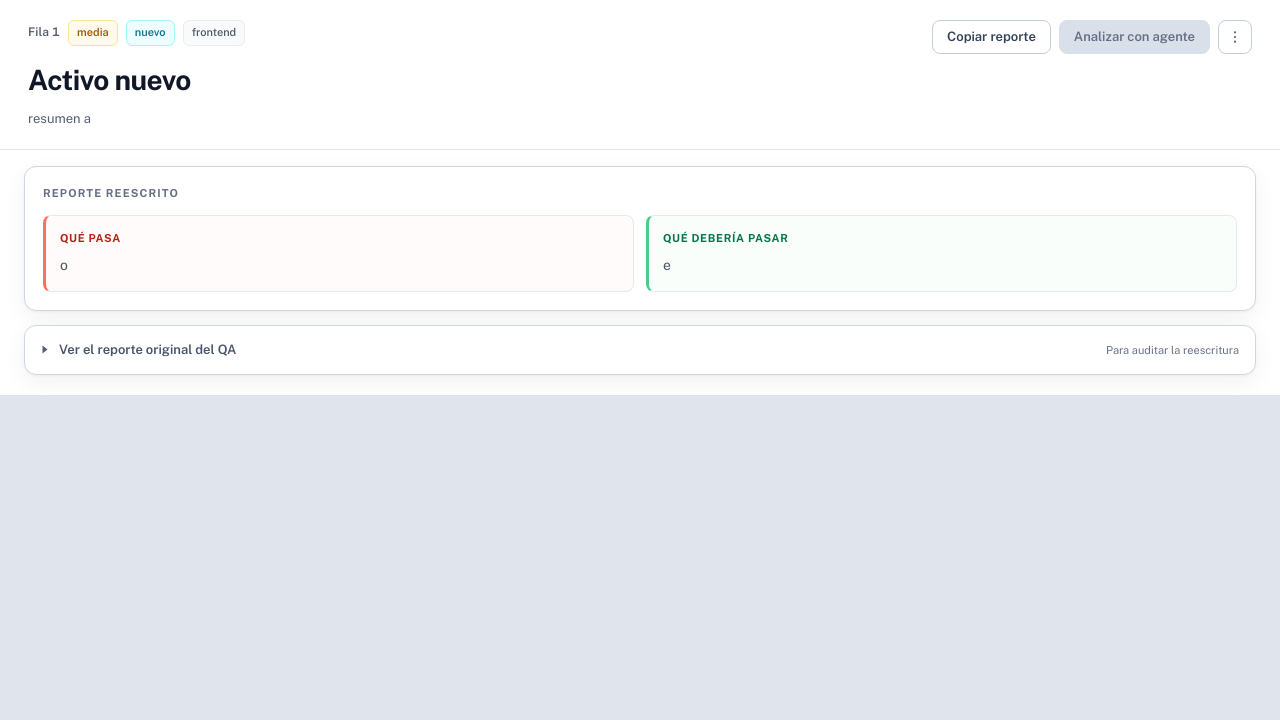
Test: BugDetail — borrar bug › cancelar no borra y cierra el modal
Click the button named "más acciones del bug" at (1235, 37), box [1218, 20, 1252, 54]
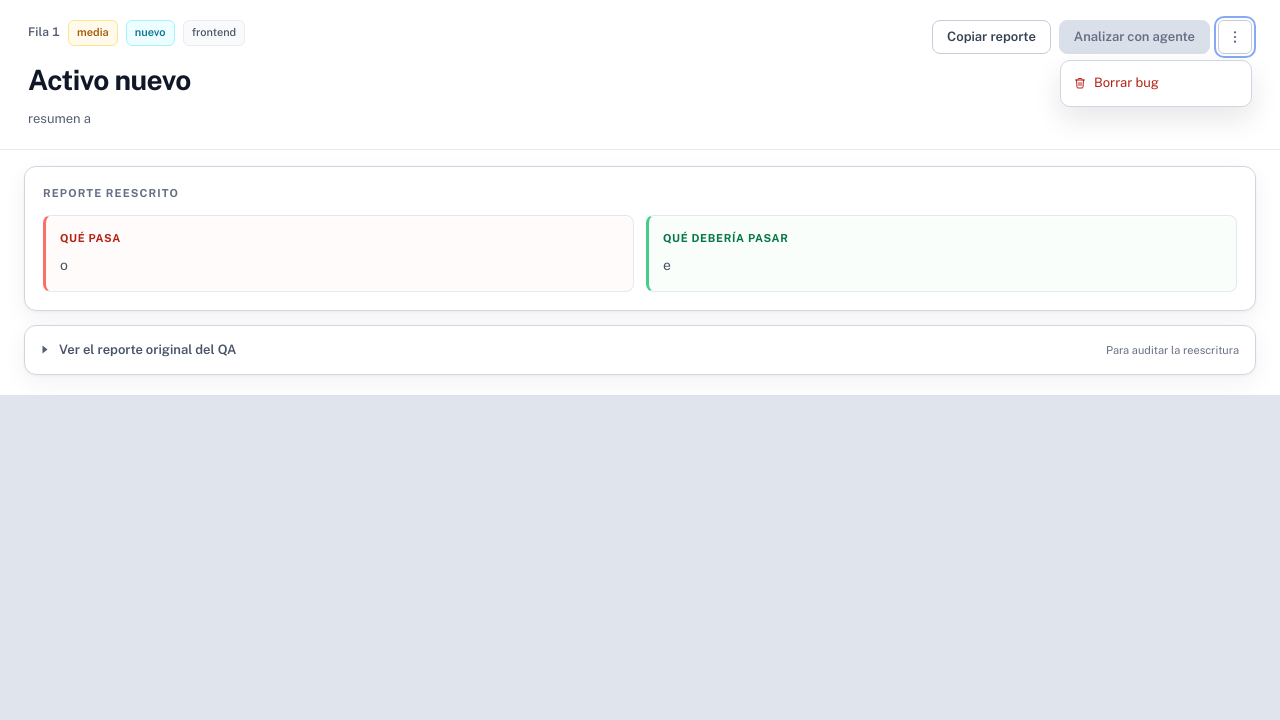
Click the menu item "Borrar bug" at (1156, 83), box [1066, 66, 1246, 101]
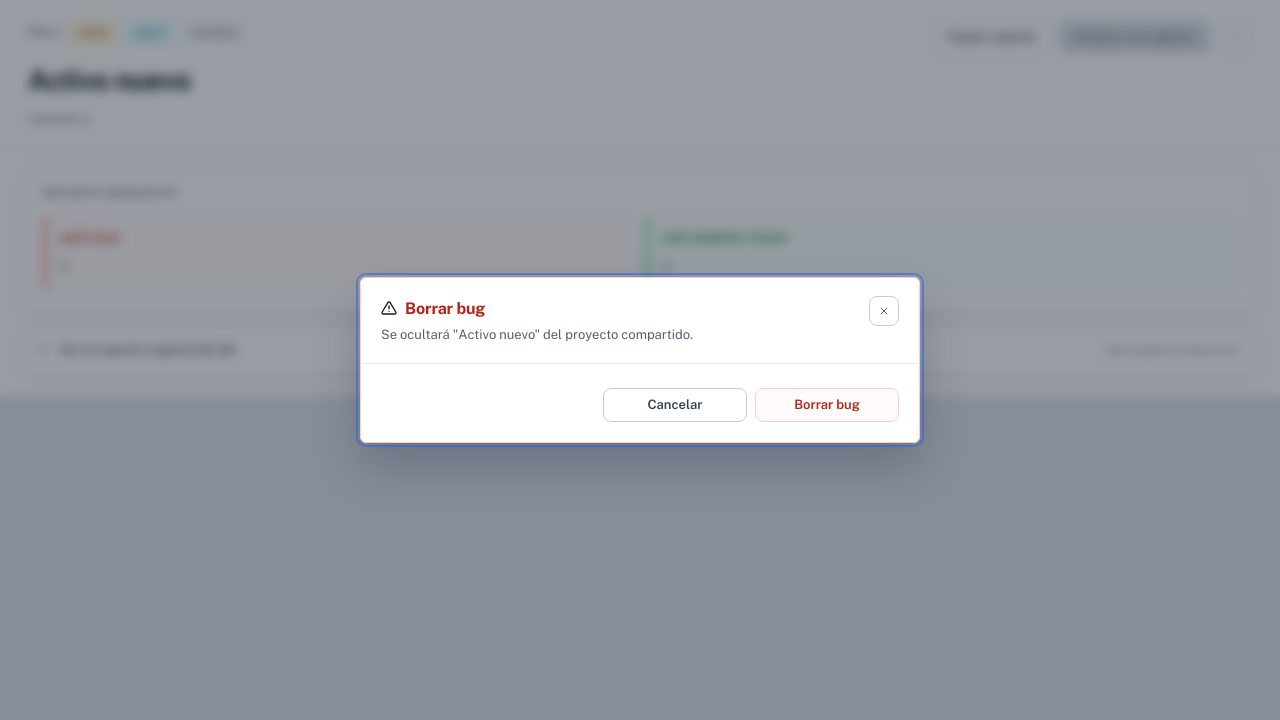
Click the button "Cancelar" at (675, 405), box [603, 388, 747, 422]
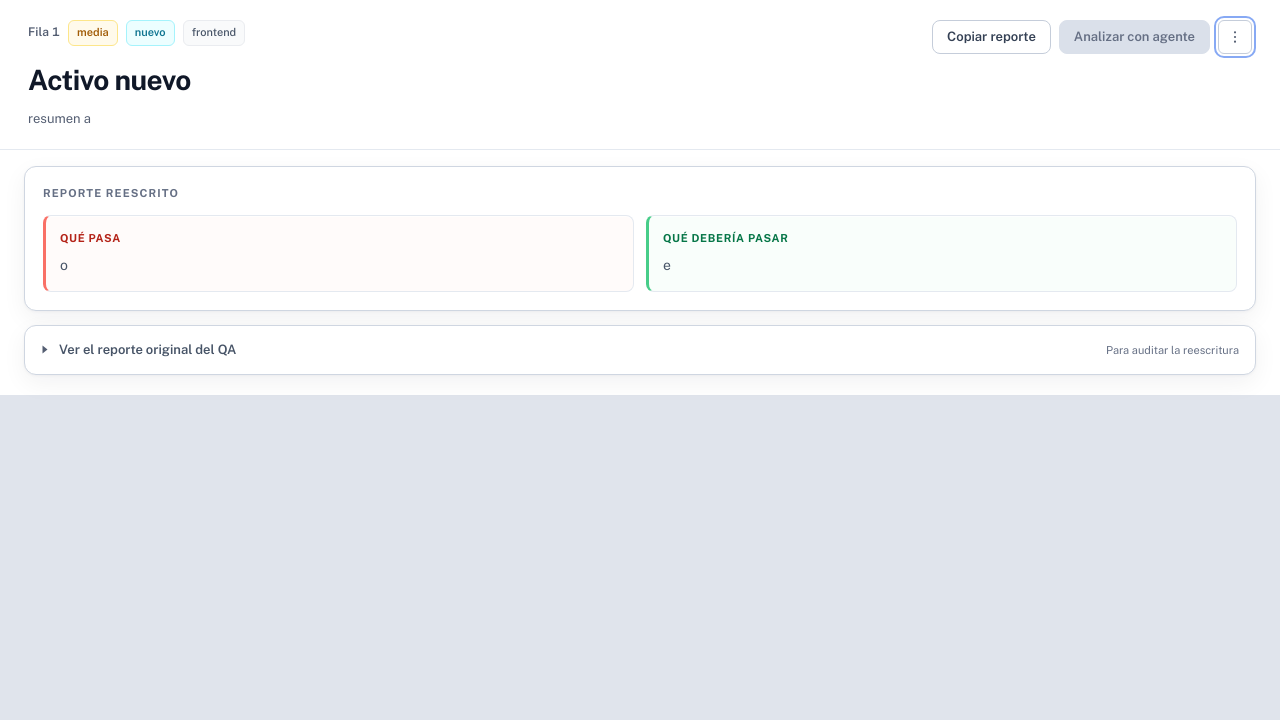
Expected: the button named "más acciones del bug" is shown, [1218, 20, 1252, 54]
Now the heading "Borrar bug" is gone
